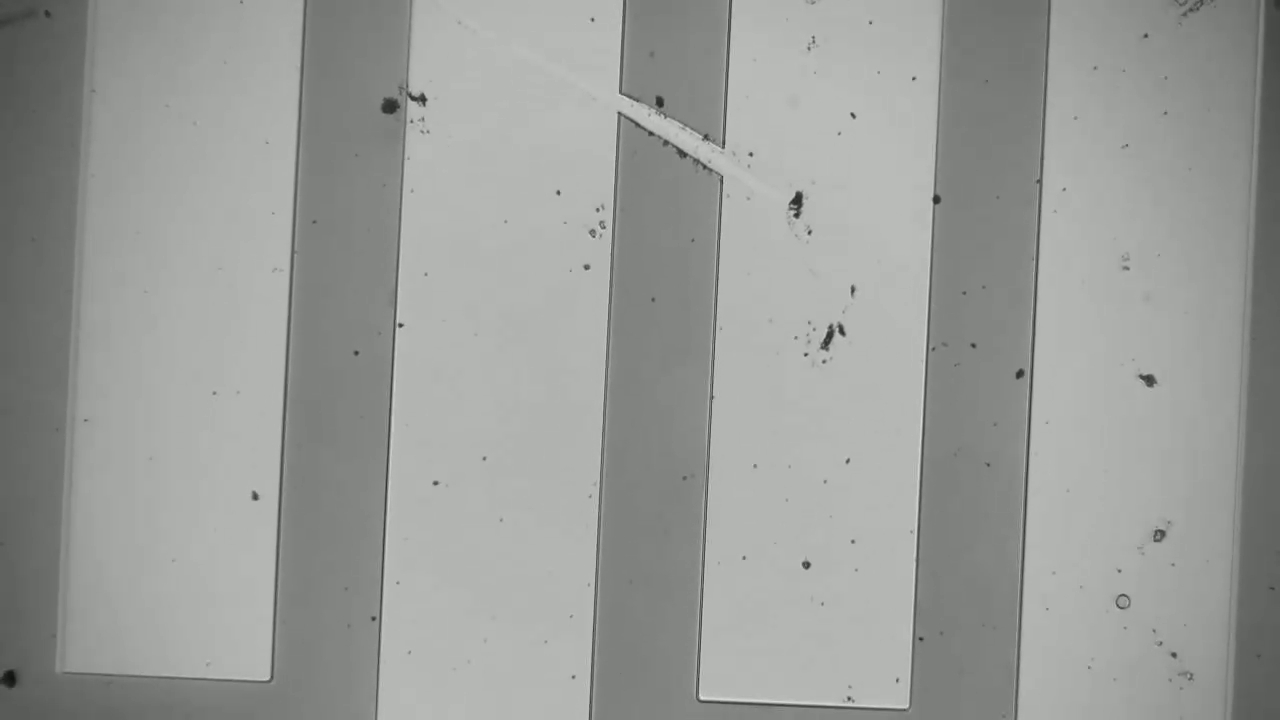Short_circuit: (607, 68, 760, 201)
